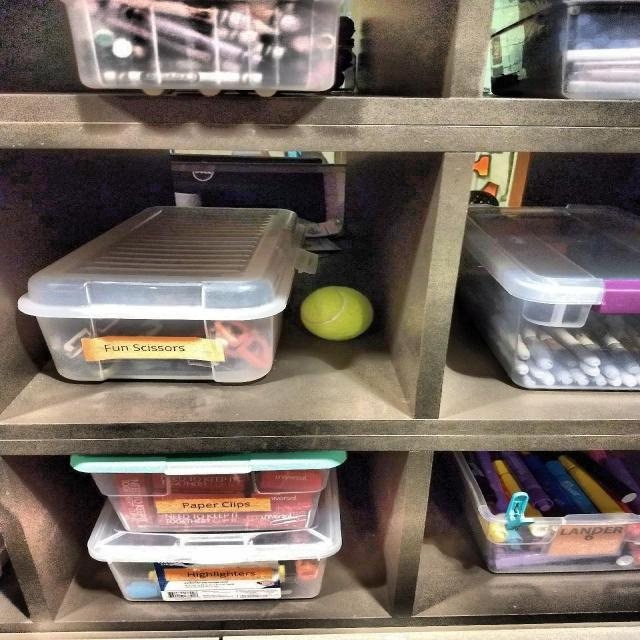tennis-ball: (306, 285, 370, 344)
